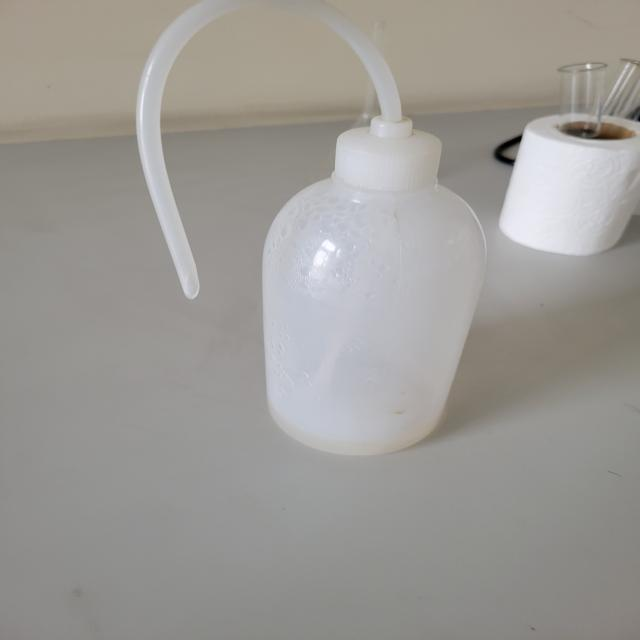Wash_Bottle: (89, 3, 526, 465)
